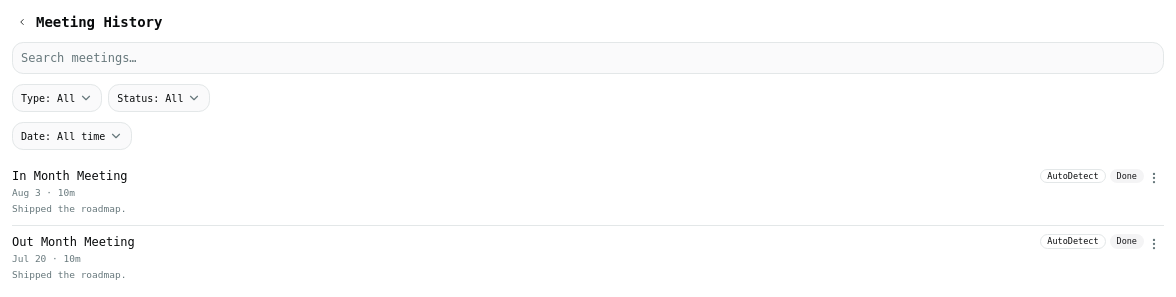
MeetingHistory › Date filter › narrows to this month's meetings when 'This month' is selected
This screenshot has width=1176, height=297.
expect the text "In Month Meeting" is shown: met, box left=12, top=168, right=128, bottom=184
Click the dropdown labelled "Date: All time" at (72, 136), box left=12, top=122, right=132, bottom=150
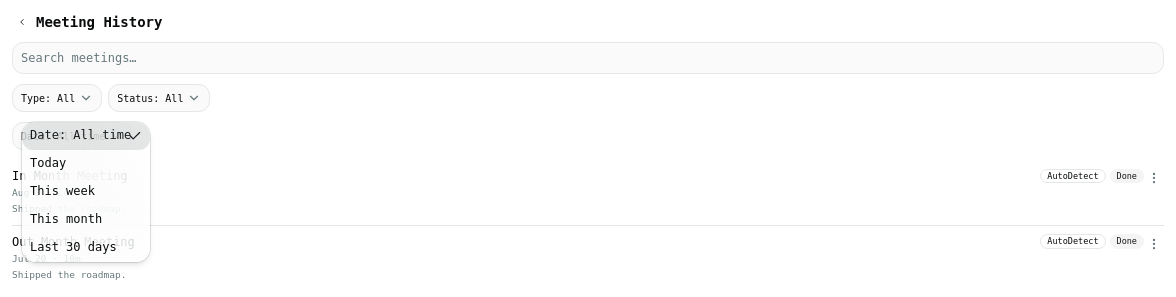
Click the option "This month" at (66, 219), box left=30, top=212, right=102, bottom=226
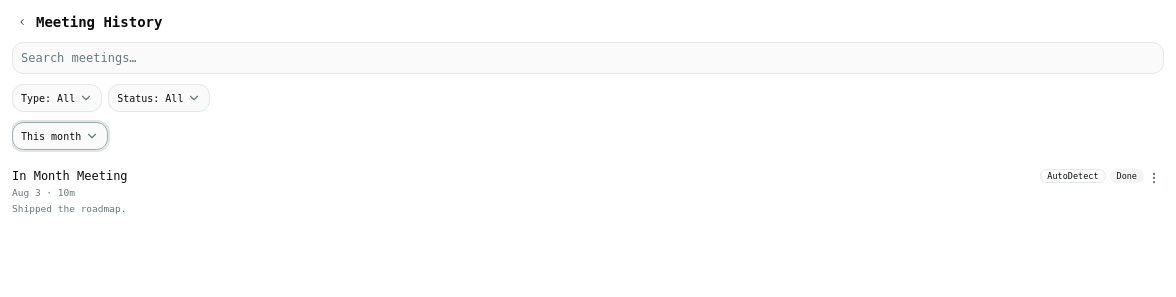
expect the text "In Month Meeting" is shown: met, box left=12, top=168, right=128, bottom=184
expect the text "Out Month Meeting" is gone: met
